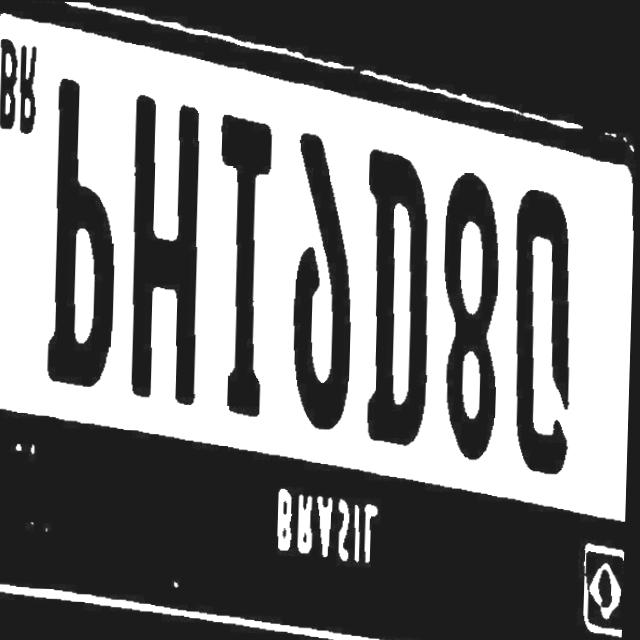0: (508, 166, 593, 482)
8: (426, 144, 515, 467)
9: (276, 113, 363, 440)
d: (356, 133, 444, 454)
h: (123, 83, 209, 419)
i: (203, 95, 279, 432)
p: (47, 65, 124, 405)
